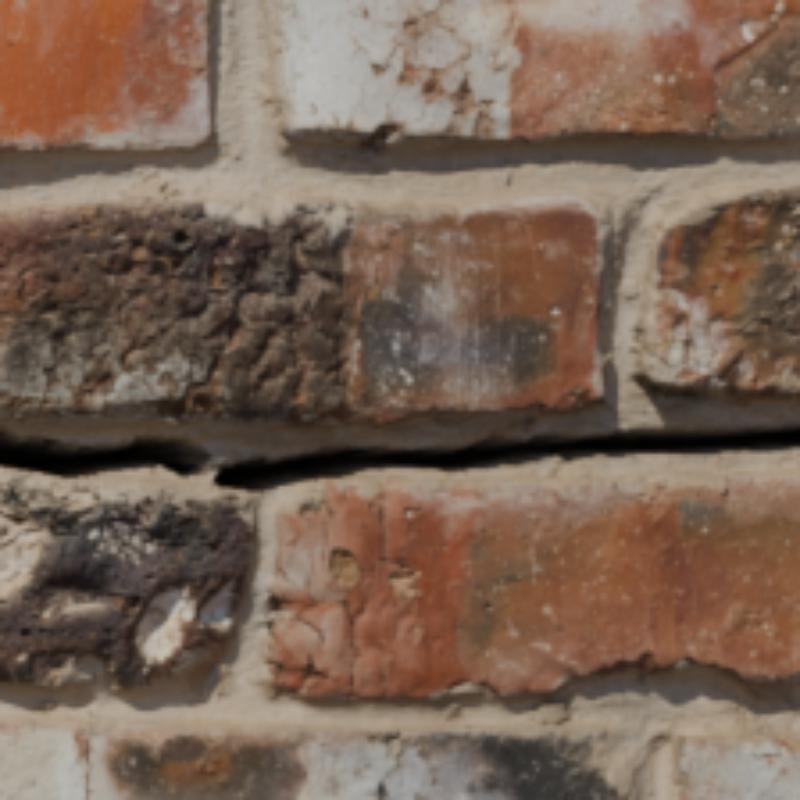crack: (0, 421, 796, 489)
